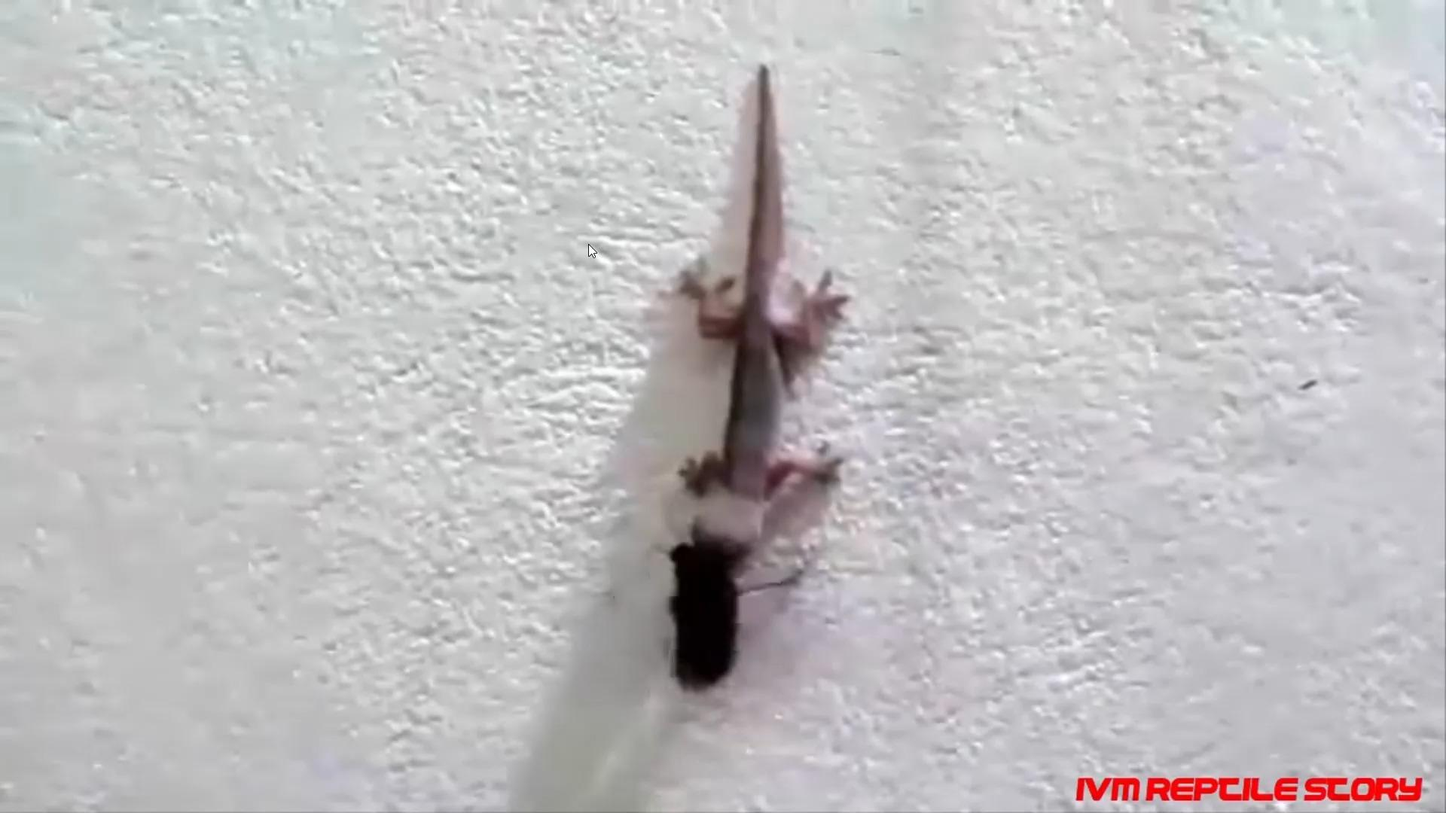cockroach: (654, 540, 750, 691)
lizard: (631, 59, 851, 561)
